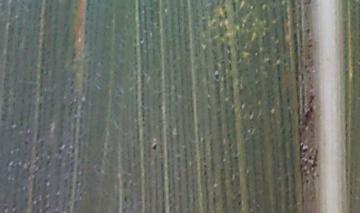tarspot: (151, 141, 159, 152)
